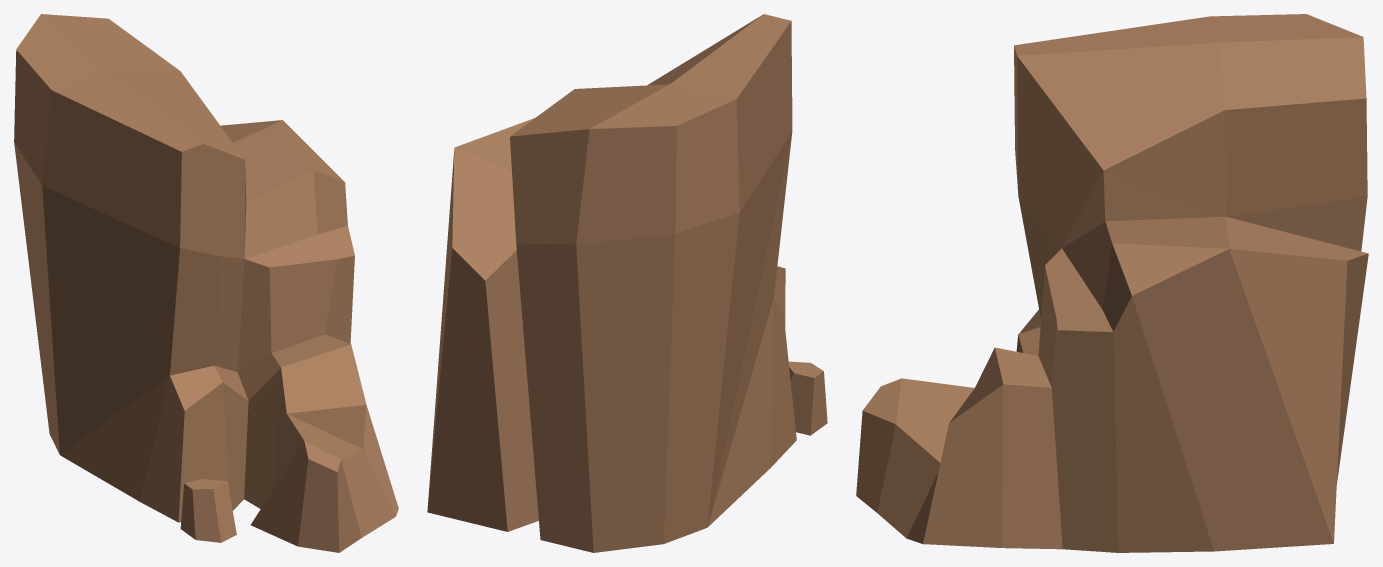
File: Shore_rocks_01.fbx
The picture shows the model from 3 angles, left to right: view 1: azimuth 30°, elevation 25°; view 2: azimuth 150°, elevation 25°; view 3: azimuth 270°, elevation 25°; orthographic projection. The views are drawn at different scales.
Visible parts, largest first — view 1: shore_rock_01; view 2: shore_rock_01; view 3: shore_rock_01.
Boxes of the visible parts, x1,y1,x2,y2 form: shore_rock_01: [14, 14, 398, 552]; shore_rock_01: [427, 14, 827, 552]; shore_rock_01: [856, 14, 1368, 552].
Bounding box in the file's own units: 310 × 433 × 476.
